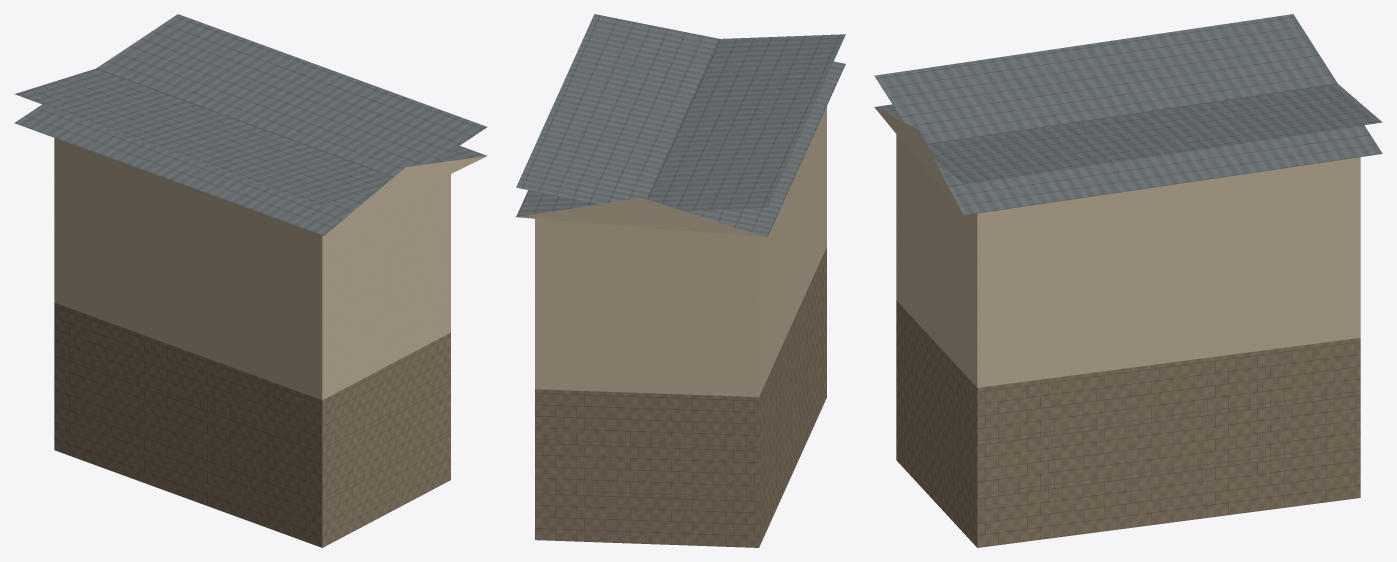
The model's file is bld_c-19_16_525.gltf.
The picture shows the model from 3 angles, left to right: view 1: azimuth 30°, elevation 25°; view 2: azimuth 150°, elevation 25°; view 3: azimuth 270°, elevation 25°; orthographic projection. The views are drawn at different scales.
Visible parts, largest first — view 1: bld_c-19_16_525; view 2: bld_c-19_16_525; view 3: bld_c-19_16_525.
Boxes of the visible parts, bbox=[...] form: bld_c-19_16_525: bbox=[14, 14, 487, 547]; bld_c-19_16_525: bbox=[516, 14, 845, 547]; bld_c-19_16_525: bbox=[874, 14, 1382, 547].
Bounding box in the file's own units: 11.63 × 12.1 × 14.68.
Materials: 4 (4 with a texture image).
